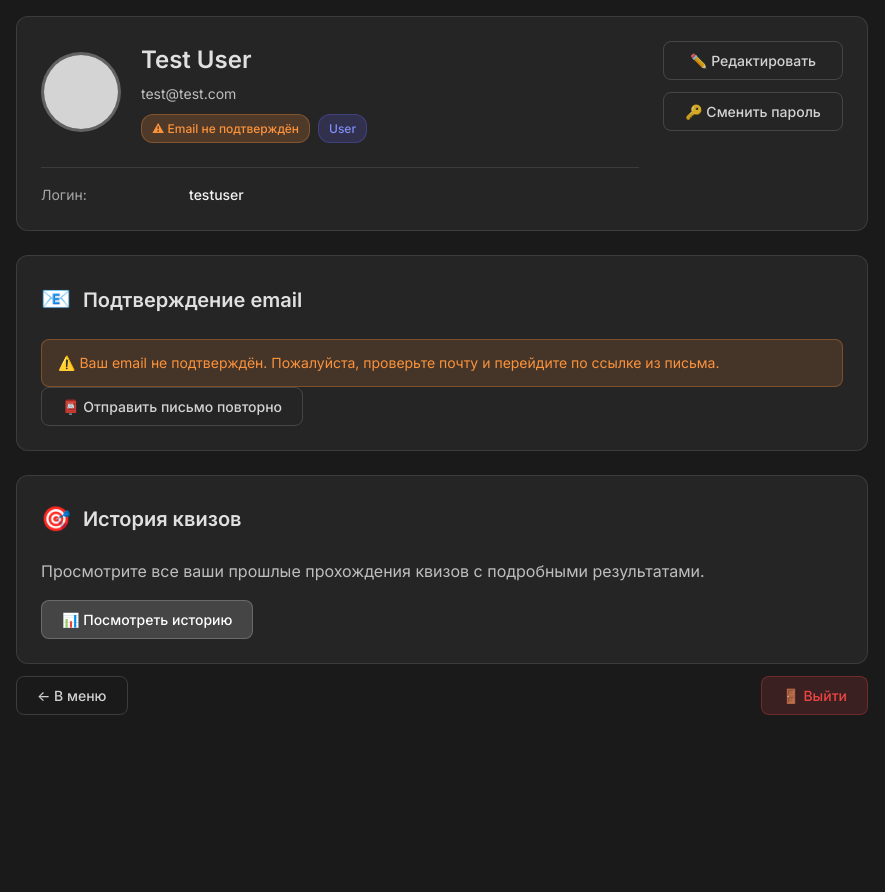
Test case: Profile › enters edit mode when edit button is clicked
Expected: the heading "Test User" is shown, [141,45,251,74]
Click the button "✏️ Редактировать" at (753, 60), box [663,41,843,80]
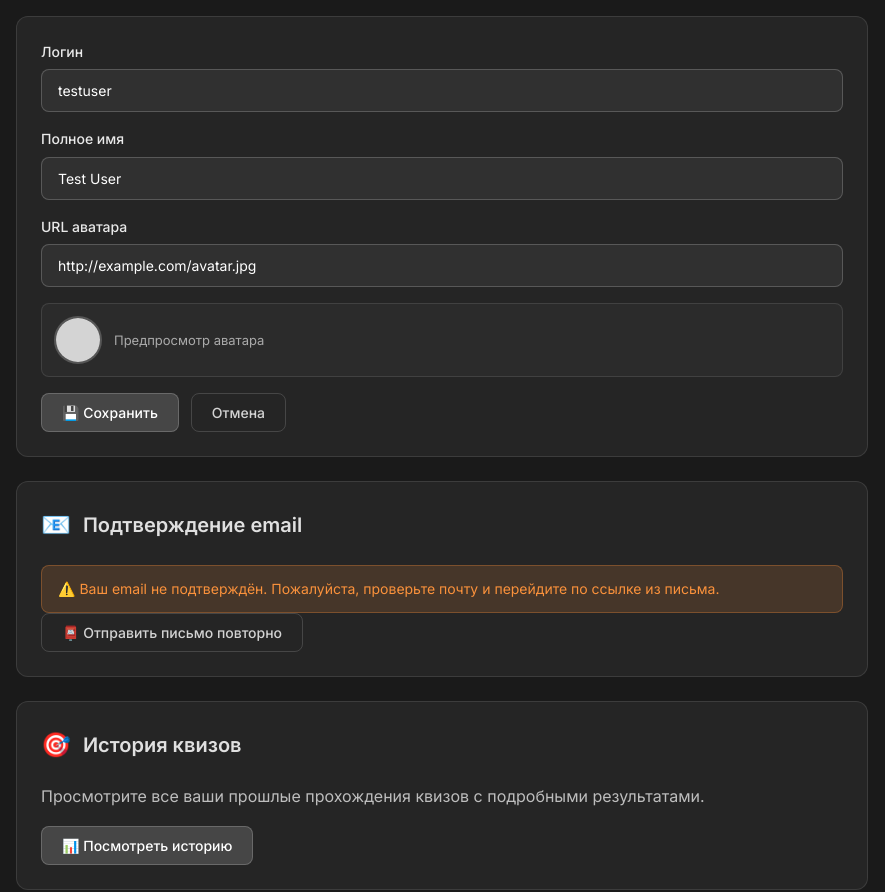
Now the field showing "testuser" below "Логин" is shown, box [41,69,843,112]
Now the field showing "Test User" below "Полное имя" is shown, box [41,157,843,200]
Now the button "Отмена" is shown, box [191,393,286,432]
